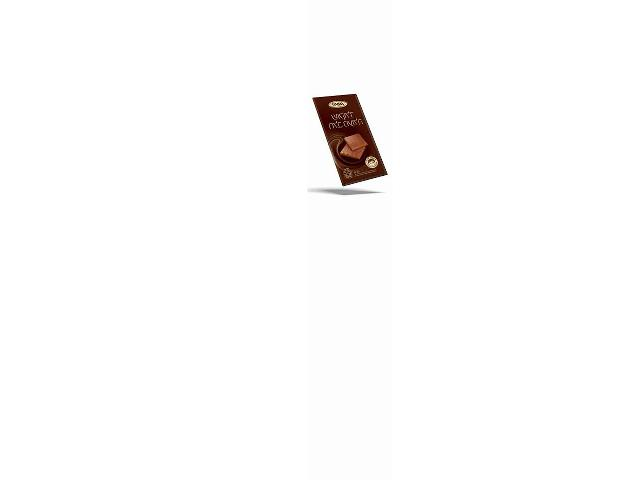chocolate: (311, 92, 390, 190)
